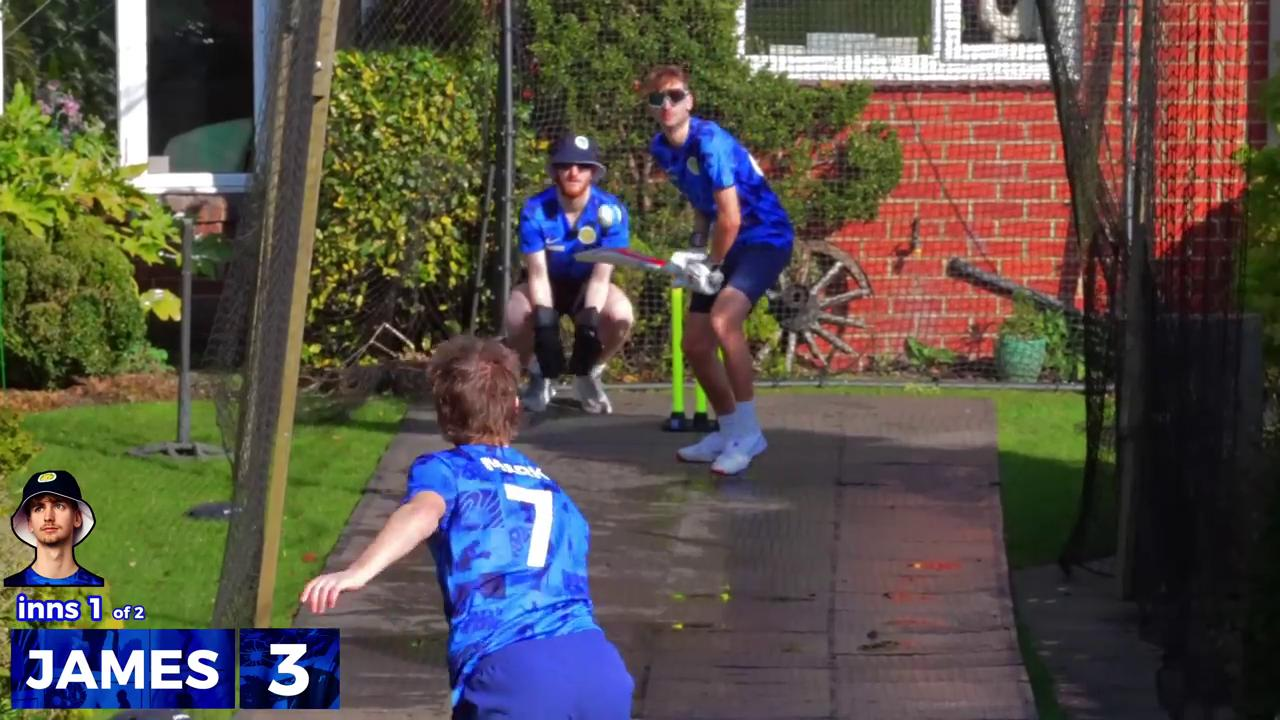ball: (593, 197, 626, 232)
